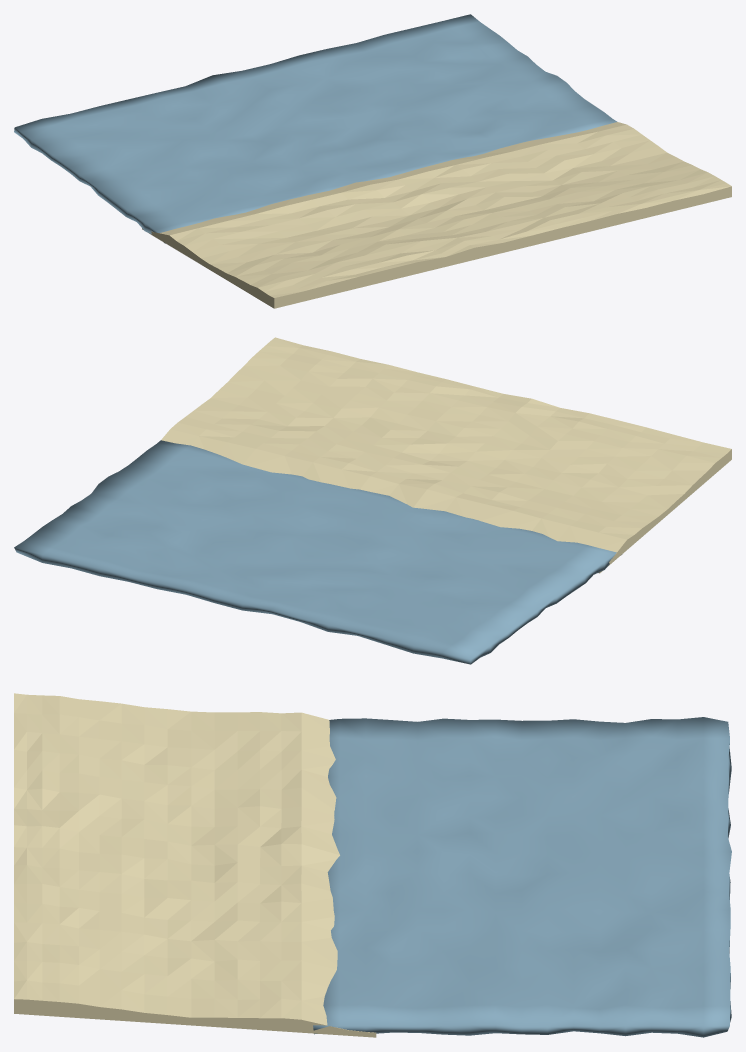
File: Beach_Low_poly.fbx
The picture shows the model from 3 angles, top to bottom: view 1: azimuth 30°, elevation 25°; view 2: azimuth 150°, elevation 25°; view 3: azimuth 270°, elevation 25°; orthographic projection. The views are drawn at different scales.
Visible parts, largest first — view 1: Beach; view 2: Beach; view 3: Beach.
Part boxes in pixels (left/top/right/bottom): Beach: left=14, top=14, right=731, bottom=308; Beach: left=14, top=337, right=731, bottom=664; Beach: left=14, top=693, right=731, bottom=1037.
Size of the model in its own units: 19662 by 1206 by 19385.
